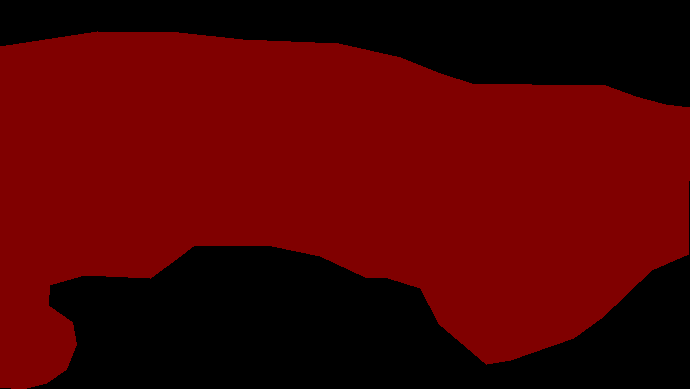fire: (0, 31, 689, 389)
